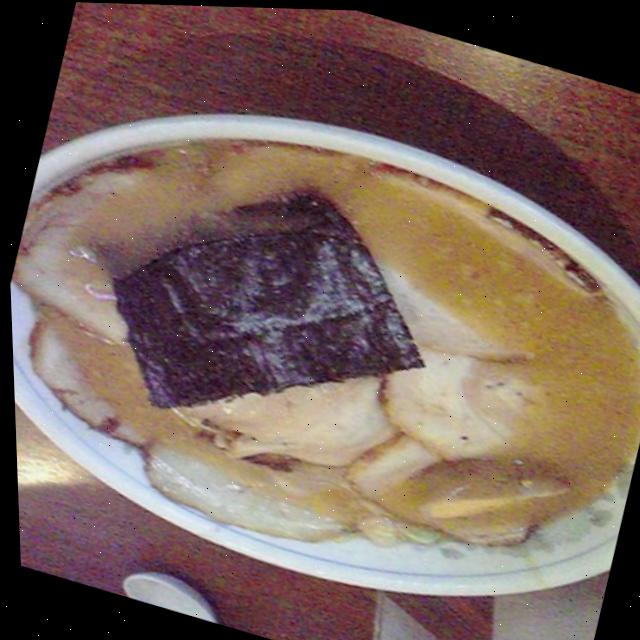面条主食: (1, 51, 640, 640)
